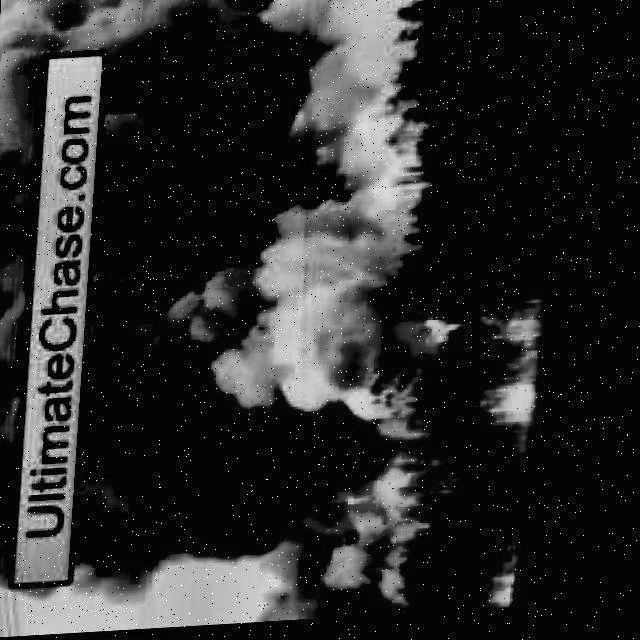Fire: (427, 301, 552, 436), (327, 458, 430, 514), (497, 570, 524, 615)
Smoke: (82, 0, 437, 635), (0, 0, 50, 595)
